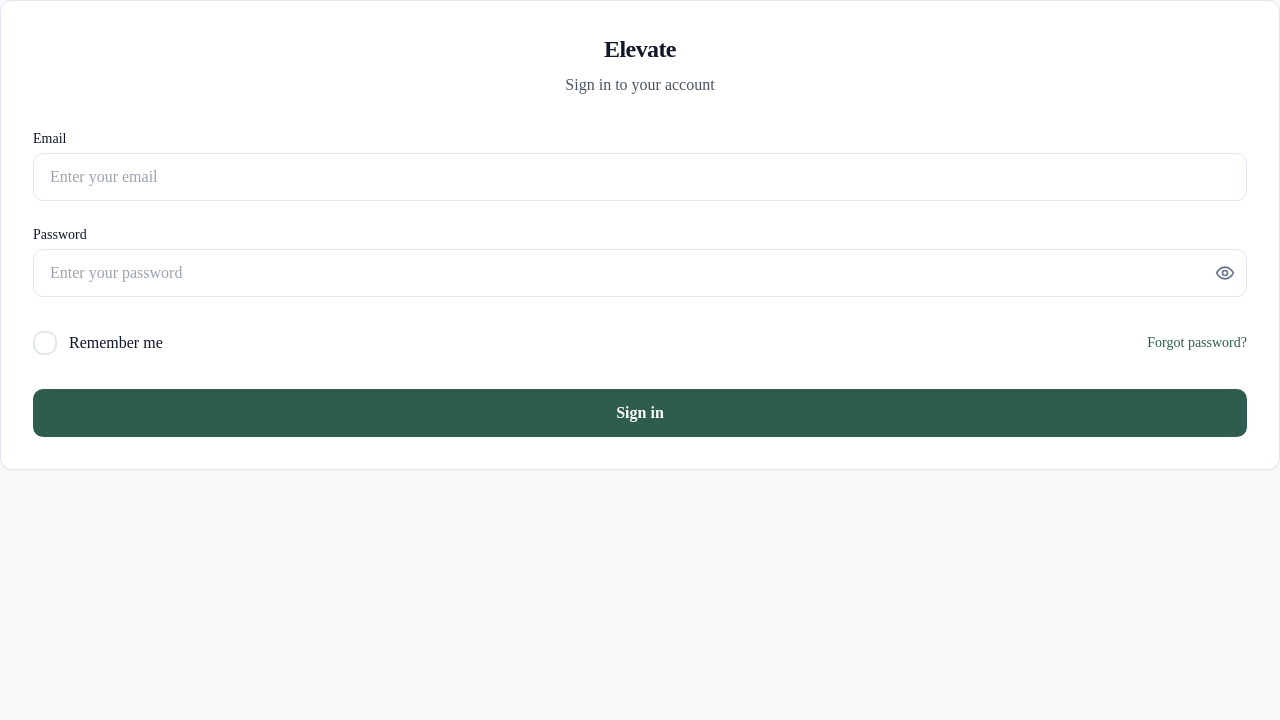
Test case: LoginPage › form validation › shows error when password is empty on submit
Type "test@example.com" into the field labelled "Email" at (640, 177), box left=33, top=153, right=1247, bottom=201
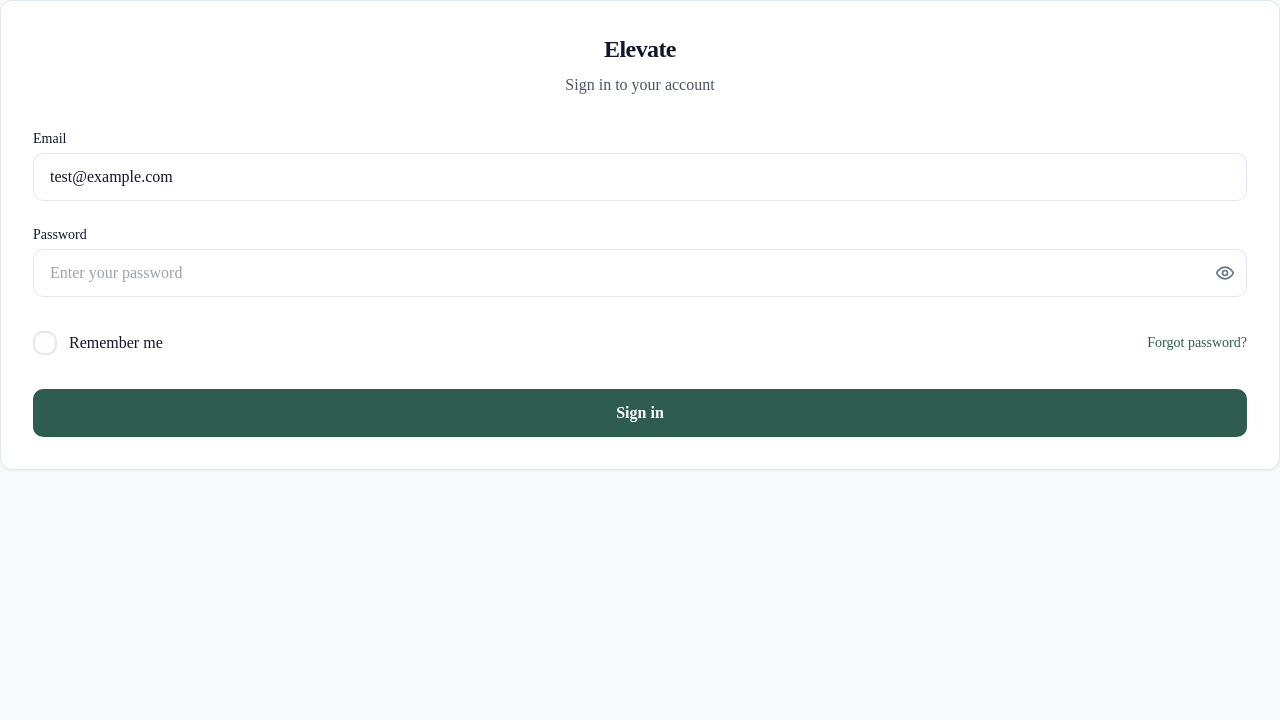
Click the button "Sign in" at (640, 413), box left=33, top=389, right=1247, bottom=437
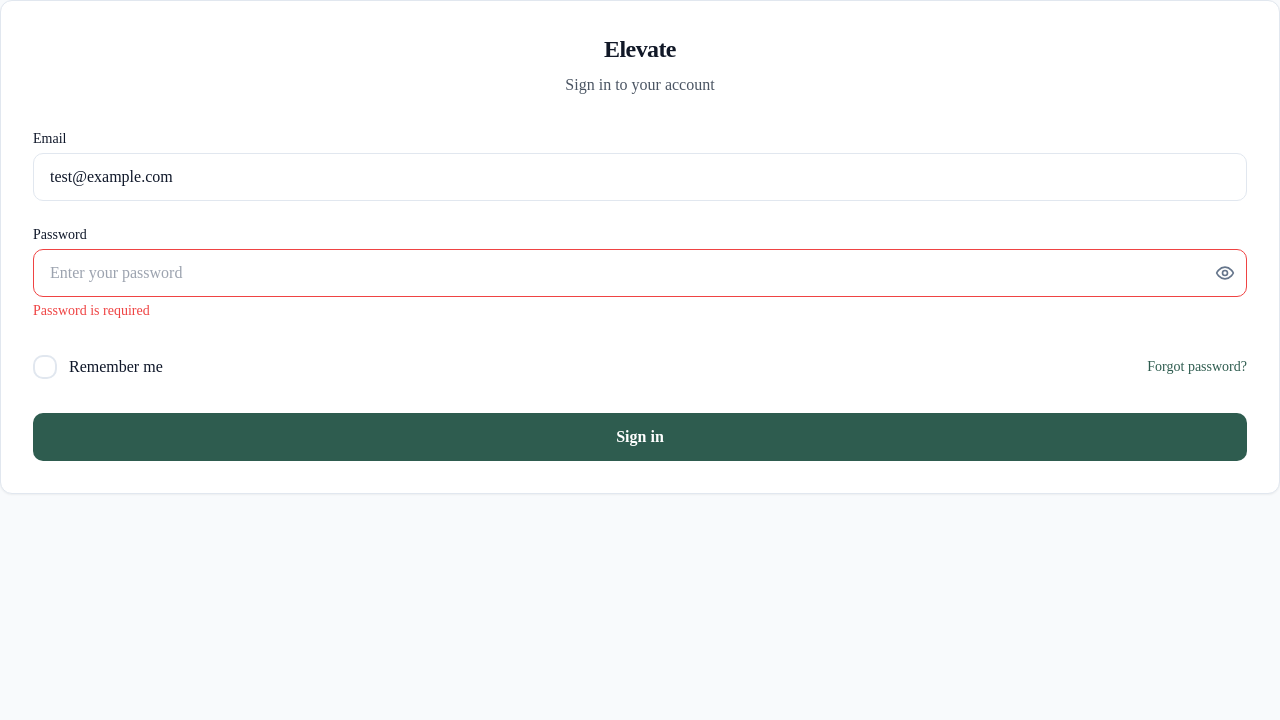
Expected: the text "Password is required" is shown, left=33, top=303, right=150, bottom=318
